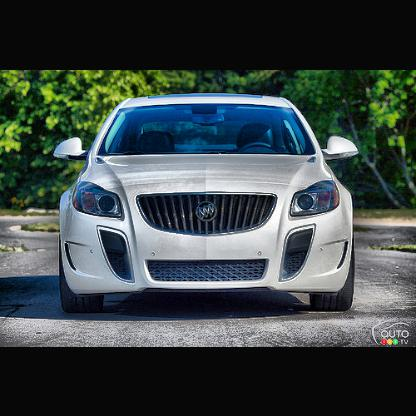Buick Regal GS 2012: (53, 91, 363, 315)
